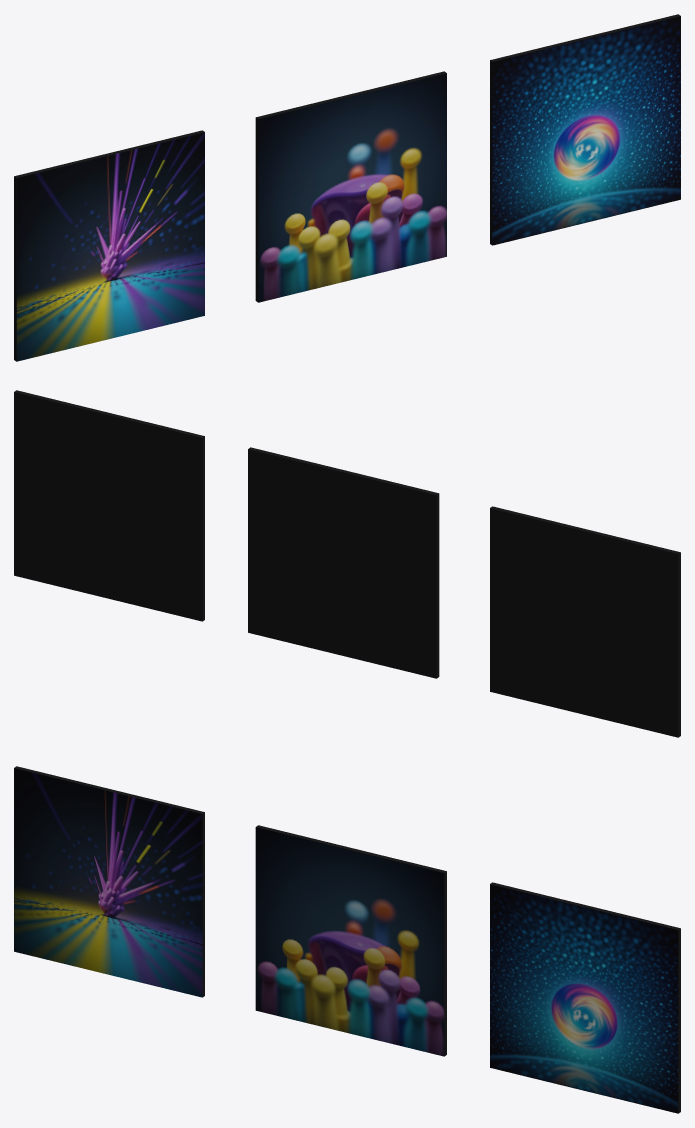
Rendered from Abstracts pictures.fbx.
3 renders of one model, top to bottom at view 1: azimuth 30°, elevation 25°; view 2: azimuth 150°, elevation 25°; view 3: azimuth 330°, elevation 25°, orthographic.
Parts seen in each view (by area): view 1: Abstracts pictures; view 2: Abstracts pictures; view 3: Abstracts pictures.
Boxes of the visible parts, x1,y1,x2,y2 form: Abstracts pictures: (14,14,680,361); Abstracts pictures: (14,390,680,737); Abstracts pictures: (14,766,680,1113).
Bounding box in the file's own units: 438 × 116 × 2.89.
1 material, 1 textured.
